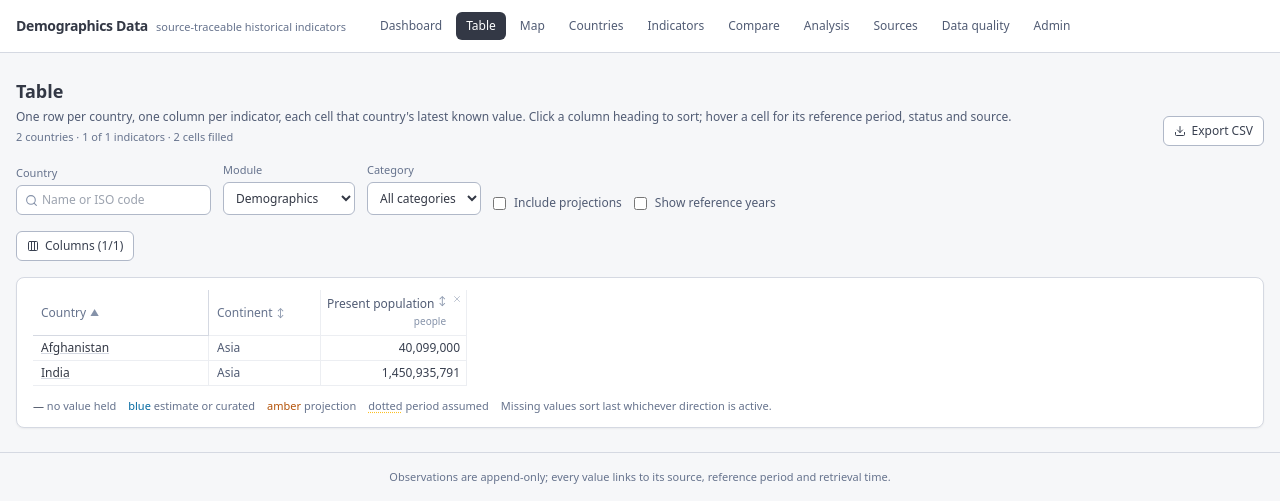
Scenario: pages render › a column can be hidden straight from its heading with the ×
This screenshot has width=1280, height=501.
Expected: the link "India" is shown, 41,364 -> 70,381
Expected: the column heading "Present population ↕ people" is shown, 321,290 -> 467,336
Step 1. Click the button named "Hide Present population" → (457, 299), box 450,292 -> 464,306
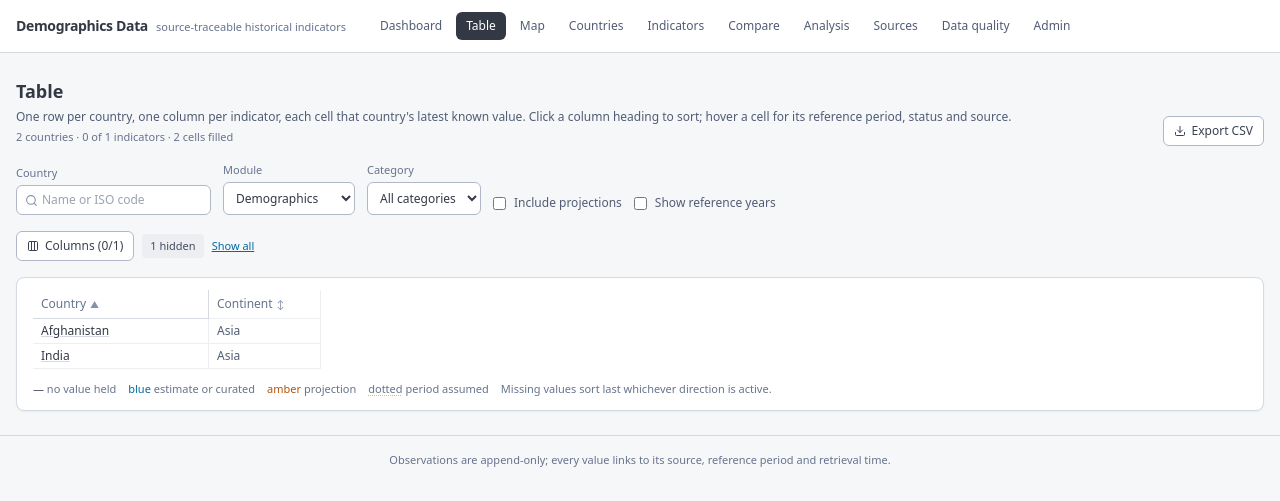
Expected: the button "Present population" is gone
Expected: the text "1 hidden" is shown, 142,234 -> 204,258
Step 2. Click the button "Show all" → (233, 246), box 212,238 -> 254,254
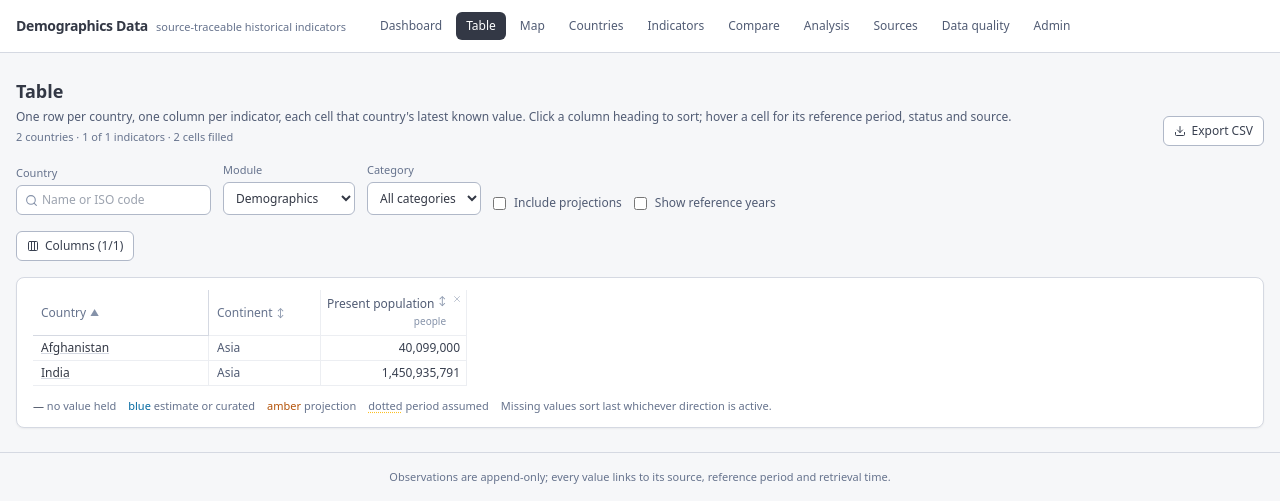
Expected: the column heading "Present population ↕ people" is shown, 321,290 -> 467,336
